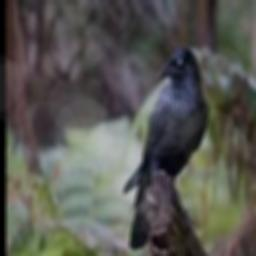Crow: (123, 47, 209, 207)
